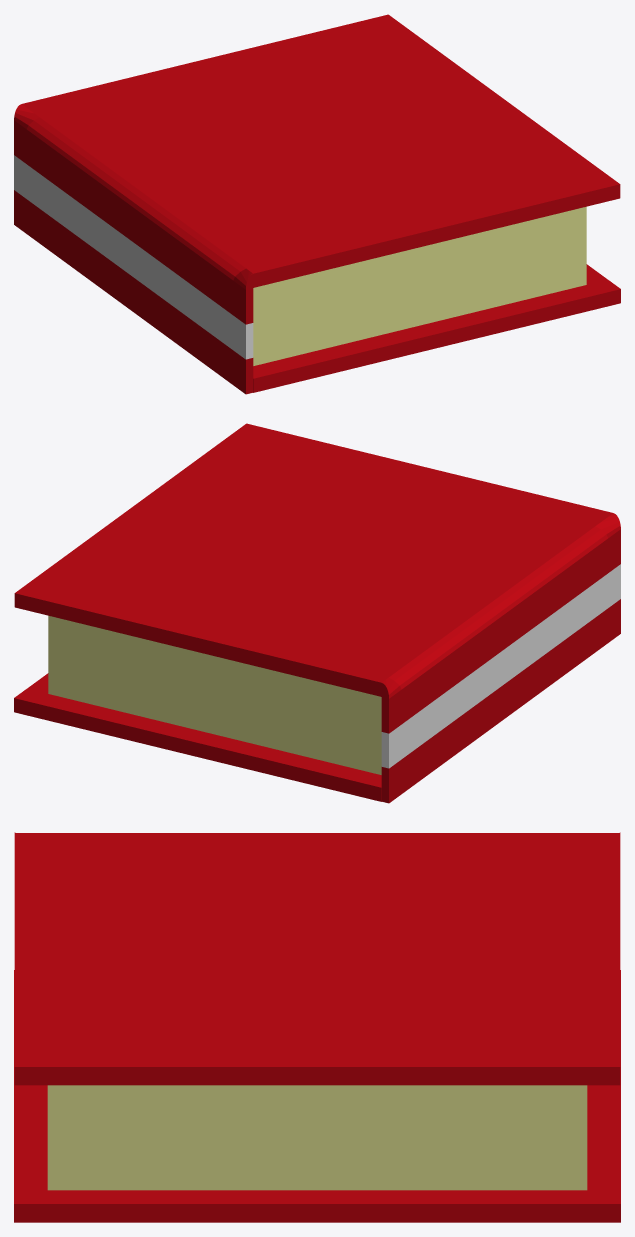
File: libro (2).fbx
The picture shows the model from 3 angles, top to bottom: view 1: azimuth 30°, elevation 25°; view 2: azimuth 150°, elevation 25°; view 3: azimuth 270°, elevation 25°; orthographic projection. The views are drawn at different scales.
Parts seen in each view (by area): view 1: Cube; view 2: Cube; view 3: Cube.
Part boxes in pixels (<box>): Cube: <box>14,14,620,394</box>; Cube: <box>14,423,620,803</box>; Cube: <box>14,832,620,1222</box>.
Bounding box in the file's own units: 147 × 44.48 × 157.
